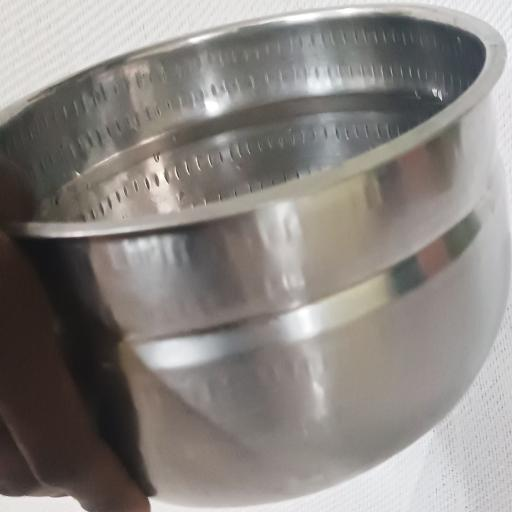vessel: (0, 6, 510, 506)
